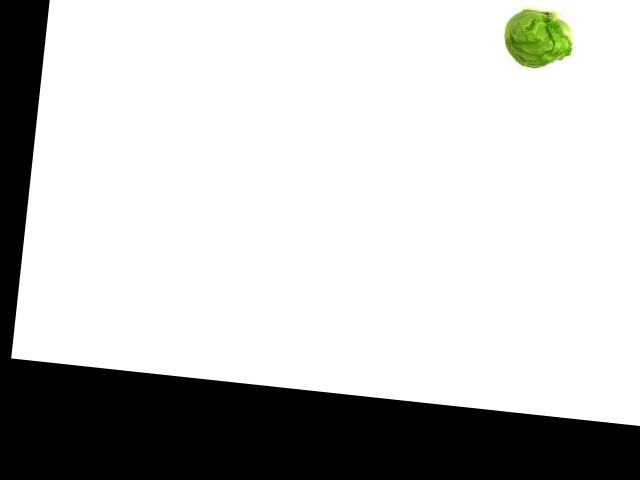lettuce: (494, 6, 583, 78)
